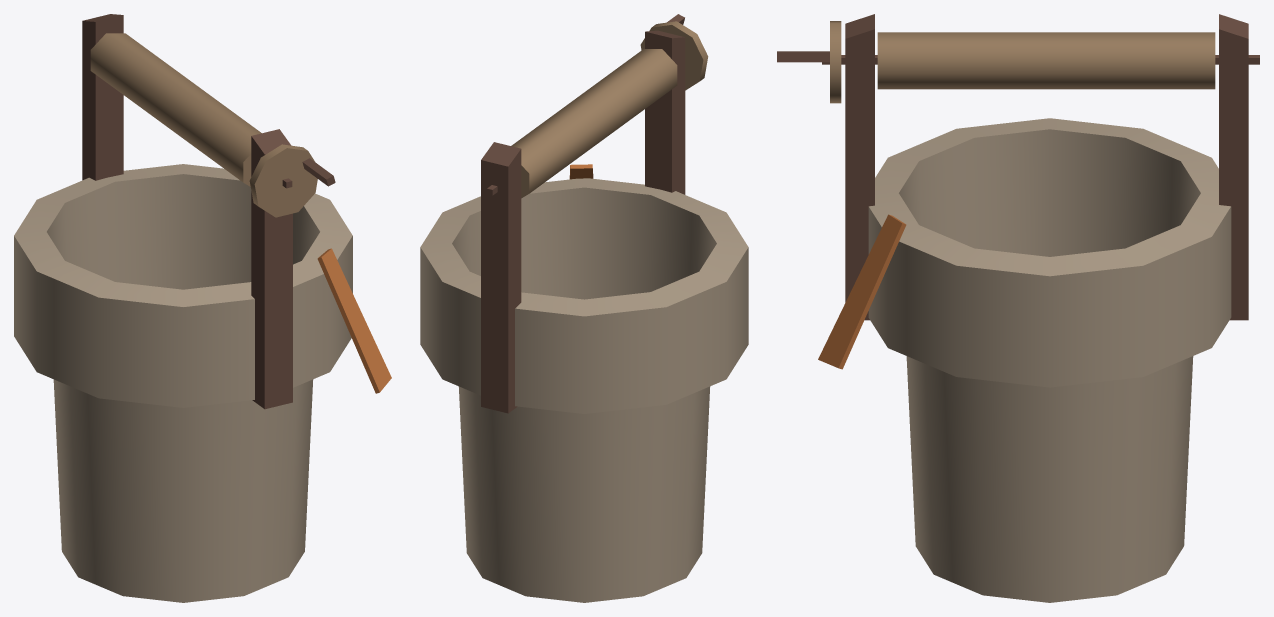
The model's file is well1.fbx.
The picture shows the model from 3 angles, left to right: view 1: azimuth 30°, elevation 25°; view 2: azimuth 150°, elevation 25°; view 3: azimuth 270°, elevation 25°; orthographic projection. The views are drawn at different scales.
Visible parts, largest first — view 1: well1; view 2: well1; view 3: well1.
Part boxes in pixels (x1,y1,x2,y2): well1: (14,14,391,602); well1: (420,14,748,602); well1: (777,14,1259,602).
Size of the model in its own units: 148 by 230 by 192.
